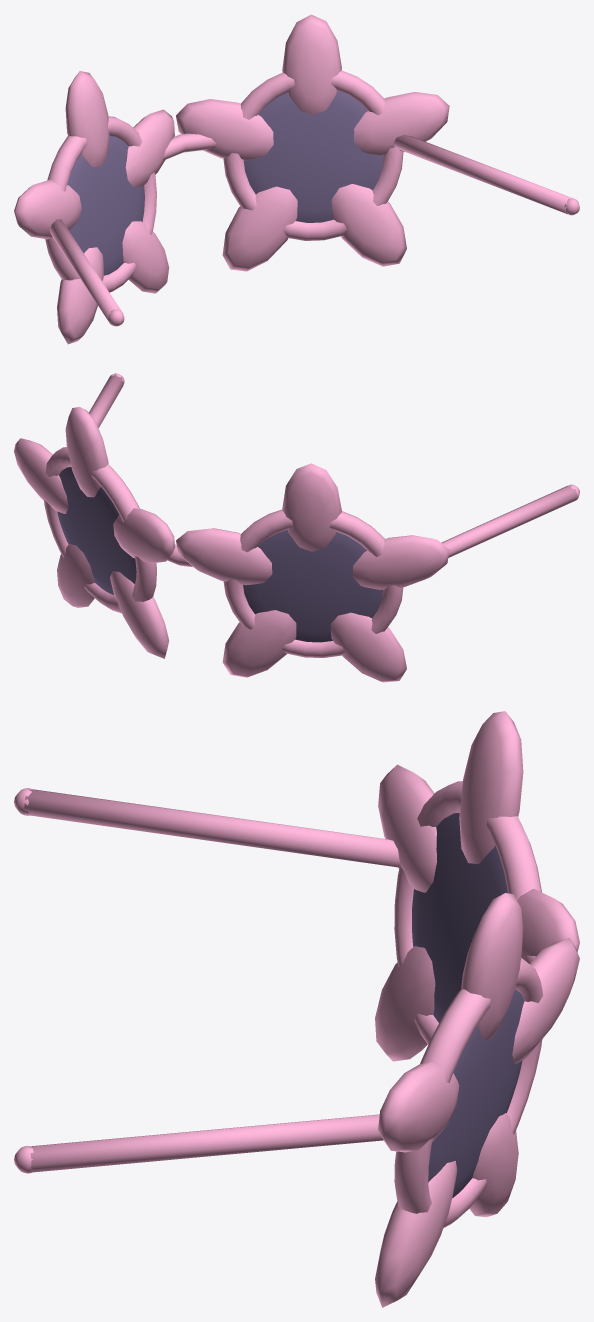
Rendered from star_sunglasses.glb.
The picture shows the model from 3 angles, top to bottom: view 1: azimuth 30°, elevation 25°; view 2: azimuth 150°, elevation 25°; view 3: azimuth 270°, elevation 25°; orthographic projection. The views are drawn at different scales.
Visible parts, largest first — view 1: Head; view 2: Head; view 3: Head.
Part boxes in pixels (x1,y1,x2,y2): Head: (14,14,579,344); Head: (14,373,579,682); Head: (14,711,579,1307).
Bounding box in the file's own units: 0.3876 × 0.1856 × 0.2509.
